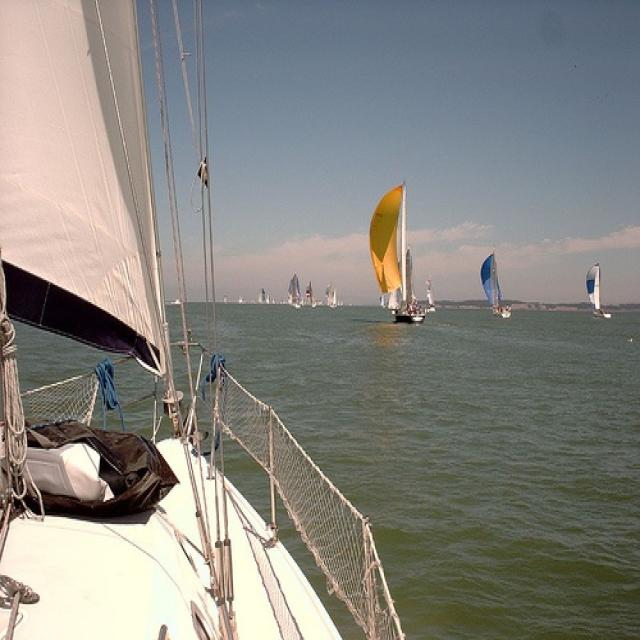boat: (1, 0, 398, 638), (369, 179, 431, 326), (478, 244, 514, 319), (585, 261, 613, 323)
